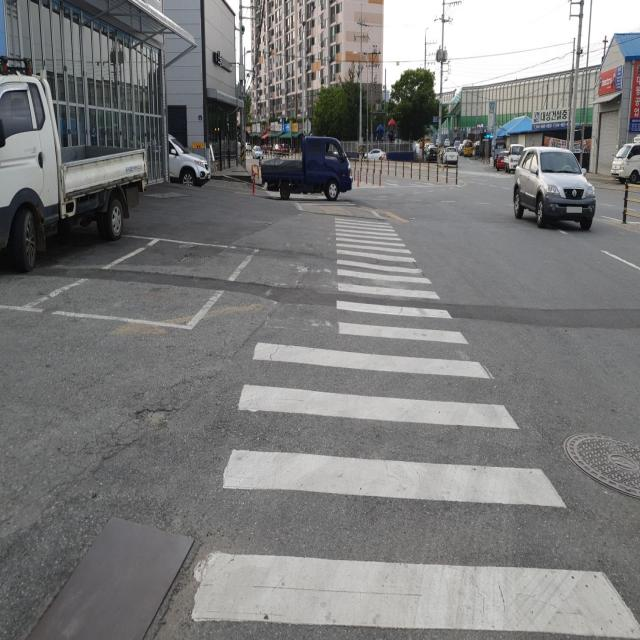횡단보도: (187, 210, 639, 640)
